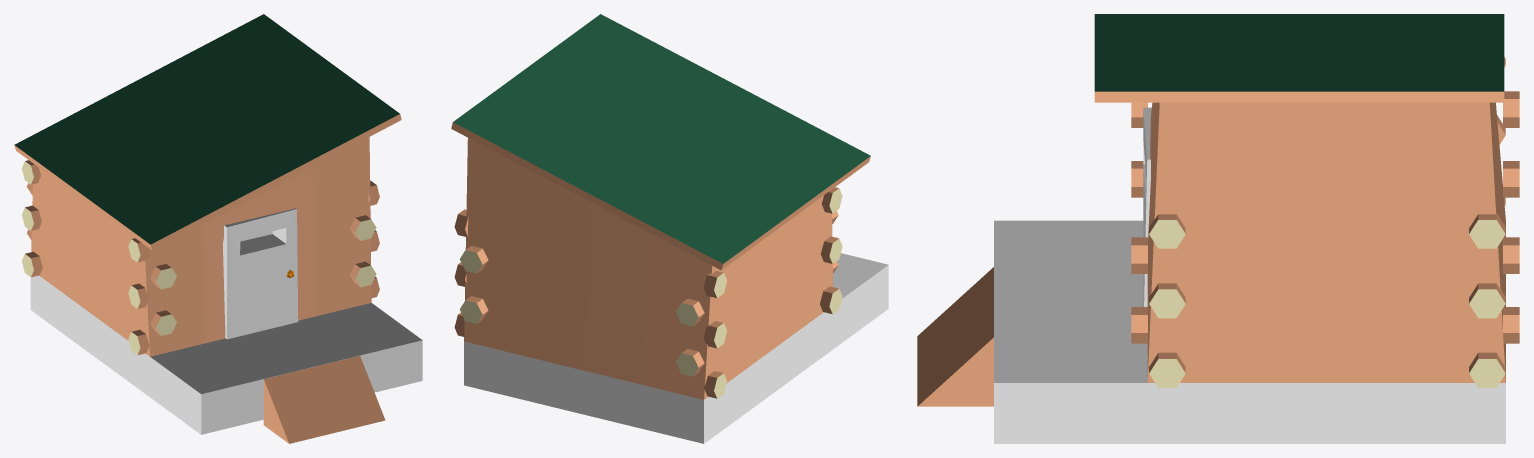
The model's file is dock_house.glb.
The picture shows the model from 3 angles, left to right: view 1: azimuth 30°, elevation 25°; view 2: azimuth 150°, elevation 25°; view 3: azimuth 270°, elevation 25°; orthographic projection. The views are drawn at different scales.
Visible parts, largest first — view 1: Cube; view 2: Cube; view 3: Cube.
Boxes of the visible parts, left/top/right/bottom form: Cube: left=14, top=14, right=422, bottom=443; Cube: left=451, top=14, right=888, bottom=443; Cube: left=917, top=14, right=1519, bottom=443.
Size of the model in its own units: 11.34 by 10.59 by 15.67.
